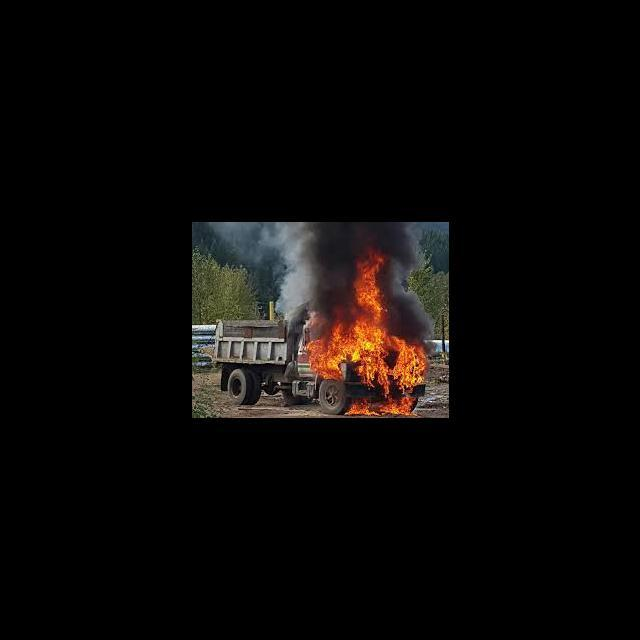Fire: (306, 332, 426, 395), (351, 248, 386, 336), (339, 396, 420, 416)
Smoke: (275, 250, 348, 328), (386, 222, 429, 331), (257, 222, 386, 248)
